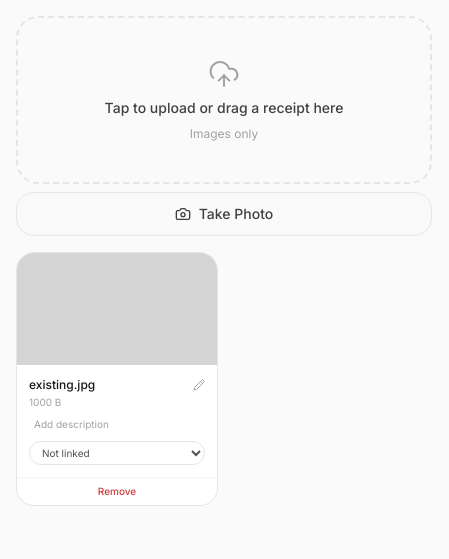
ReceiptsPage › restores the receipt and shows an error when delete fails
The image size is (449, 559).
Expected: the element with test id "receipt-card" is shown, [16,252,218,506]
Click the button with test id "receipt-remove-button" at (117, 491), box [17,477,217,505]
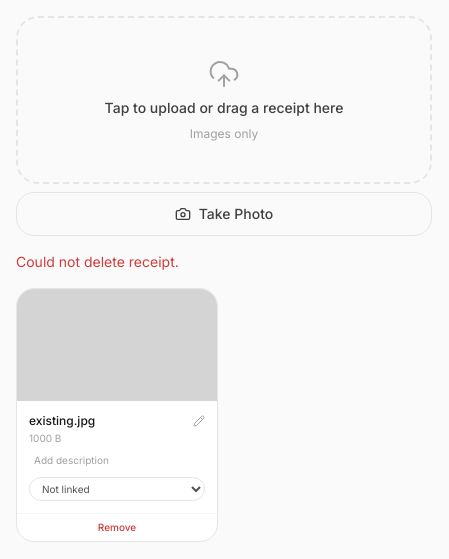
Expected: the element with test id "receipt-card" is shown, [16,288,218,542]
Result: the text with test id "receipts-error" reads "Could not delete receipt." at [16,253,179,270]
